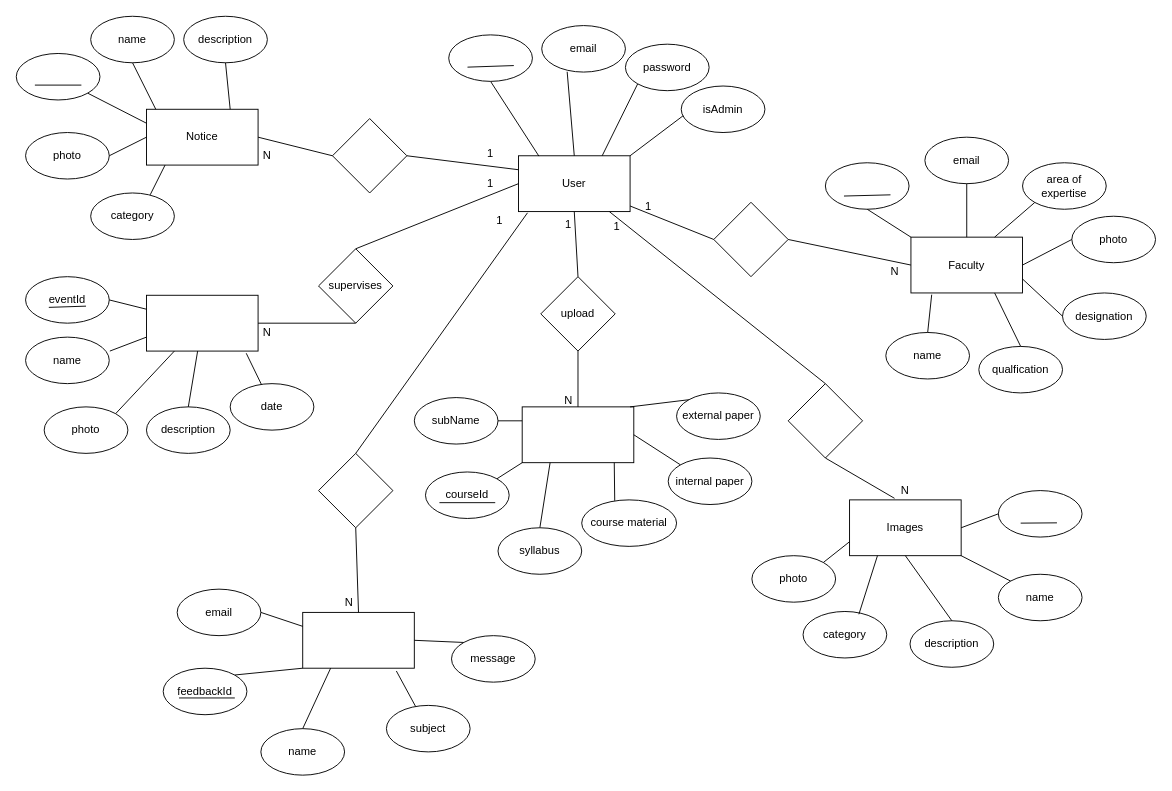
The diagram is 1172 pixels wide and 791 high, and some of its shapes have lost their labels. The centre of each missing label's shape, as x and y in pixels:
"add" goes at (825,420).
"Course" goes at (577,434).
"create" goes at (369,155).
"Event" goes at (202,322).
"faculty_Id" goes at (866,185).
"Feedback" goes at (358,639).
"imgId" goes at (1039,513).
"manage" goes at (750,239).
"notice_id" goes at (57,76).
"user_id" goes at (490,57).
"write" goes at (355,490).
